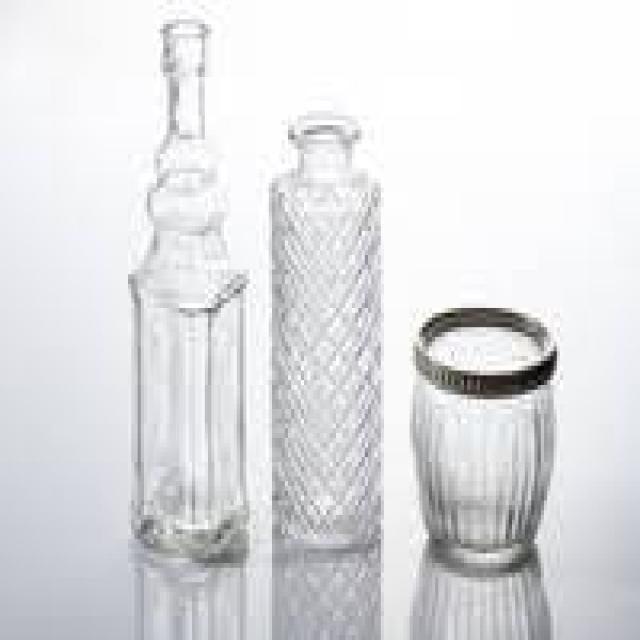Glass: (126, 18, 248, 570), (268, 112, 384, 557), (410, 306, 560, 575)
